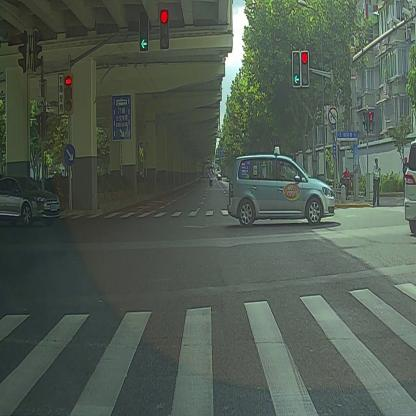Red Light: (159, 6, 169, 52), (64, 72, 74, 116), (300, 49, 310, 87)
